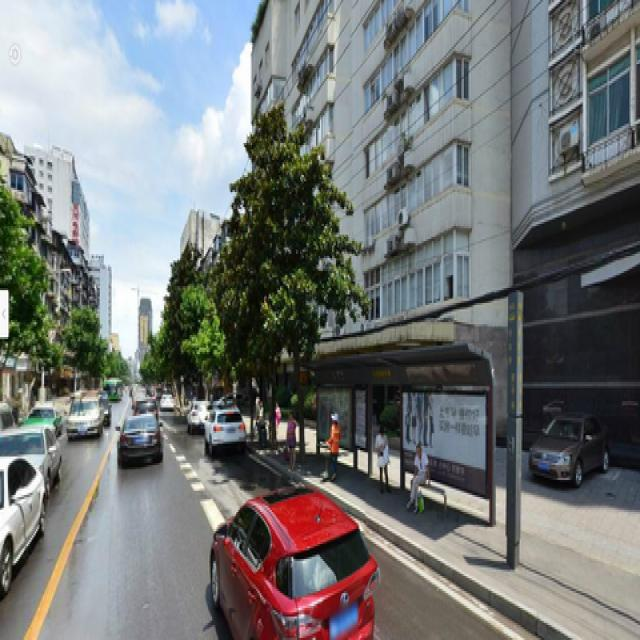magn: (242, 115, 334, 457)
